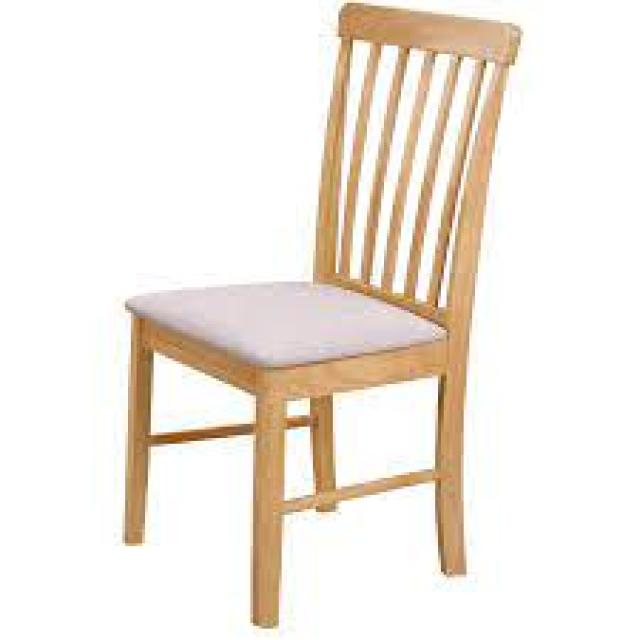chair: (85, 0, 560, 640)
